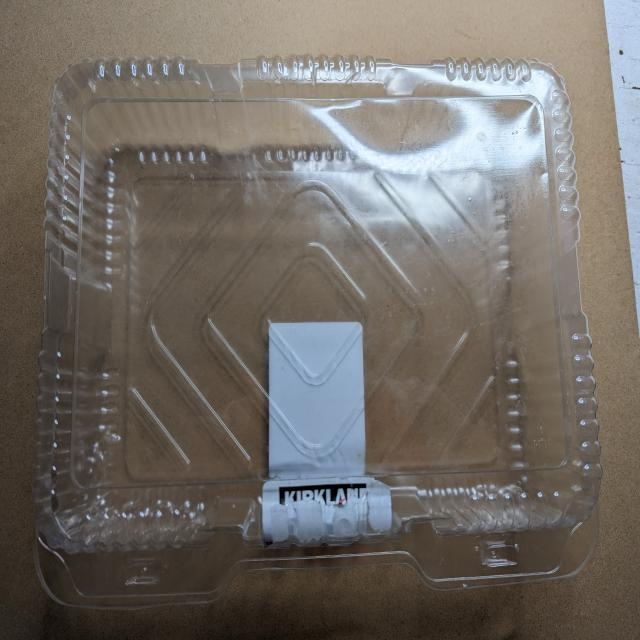Clamshell: (32, 58, 603, 633)
Label: (261, 322, 393, 546)
